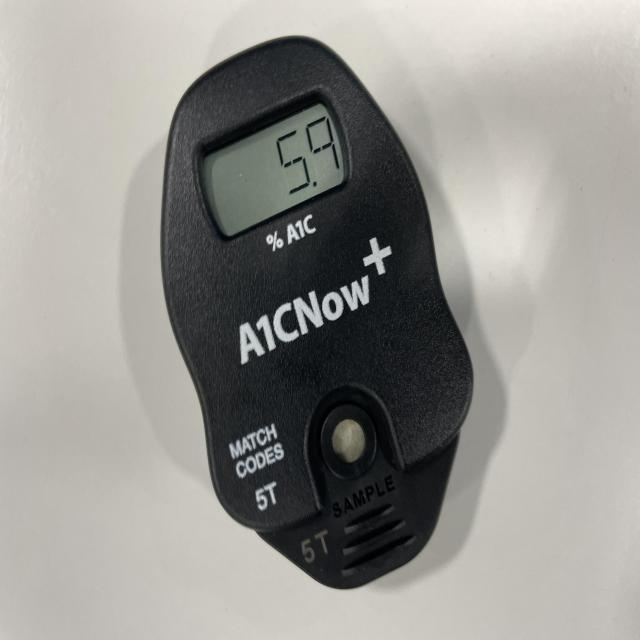hba1c: (157, 36, 476, 593)
